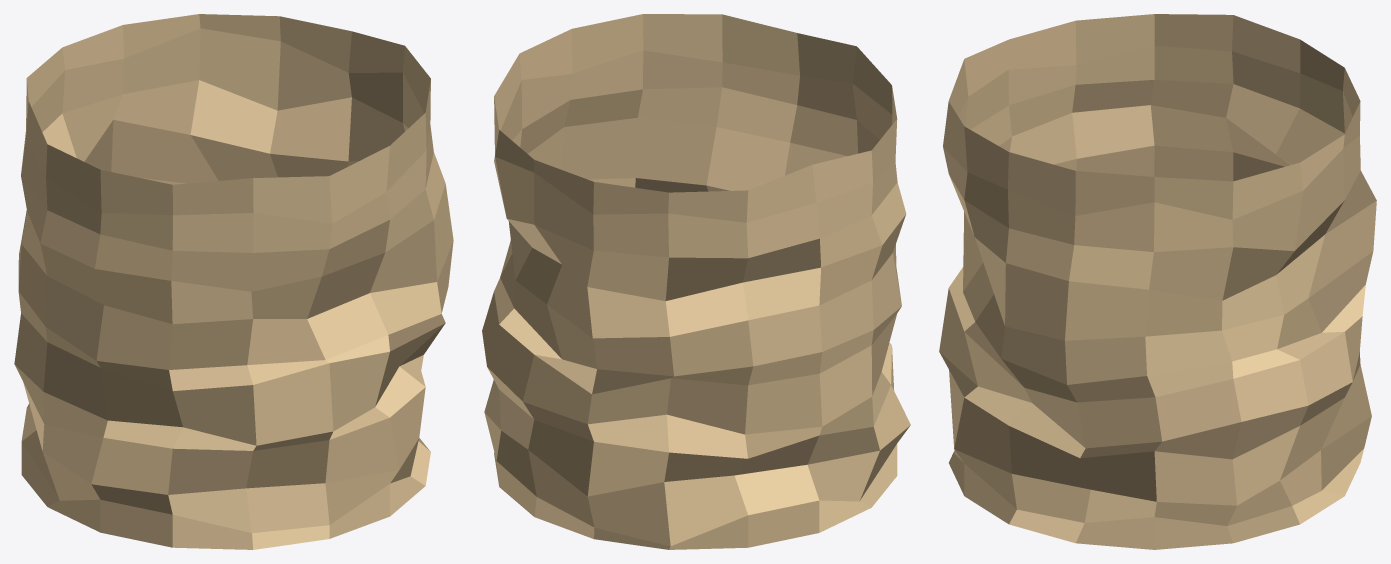
File: vessel_straight_1.fbx
3 views of the same model, side by side, from view 1: azimuth 30°, elevation 25°; view 2: azimuth 150°, elevation 25°; view 3: azimuth 270°, elevation 25° (orthographic).
Parts seen in each view (by area): view 1: Cylinder; view 2: Cylinder; view 3: Cylinder.
Boxes of the visible parts, x1,y1,x2,y2 form: Cylinder: (14,14,453,549); Cylinder: (482,14,910,549); Cylinder: (939,14,1376,549).
Bounding box in the file's own units: 2.07 × 2 × 2.13.
